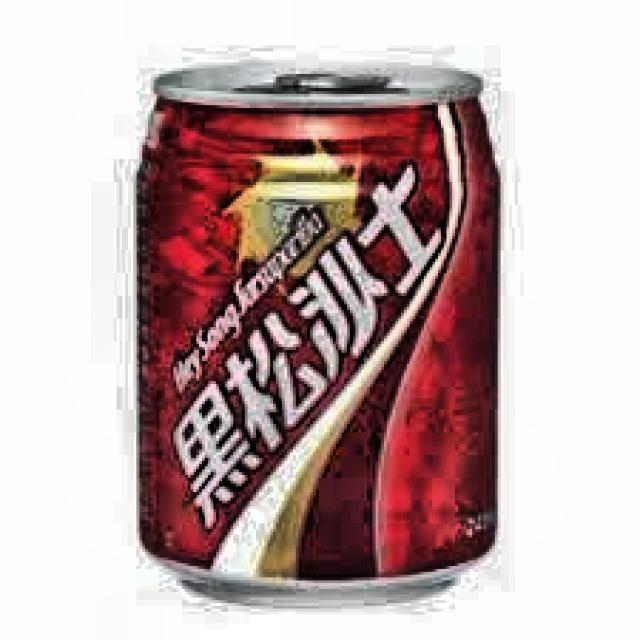can: (127, 49, 511, 620)
